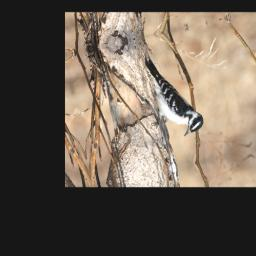Woodpecker: (137, 45, 206, 144)
